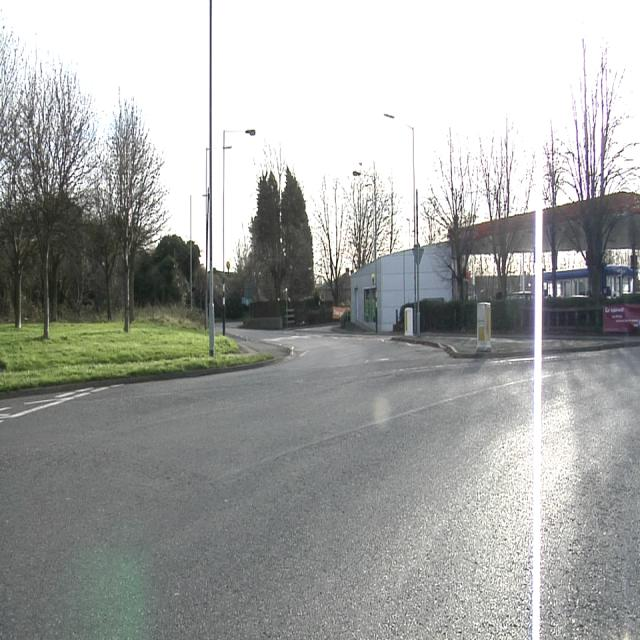Building: (340, 246, 449, 331), (135, 235, 196, 307)
Road: (0, 329, 532, 626)
Tree: (433, 39, 639, 296), (1, 15, 167, 321), (543, 40, 639, 297), (229, 164, 317, 314), (312, 162, 405, 288)
